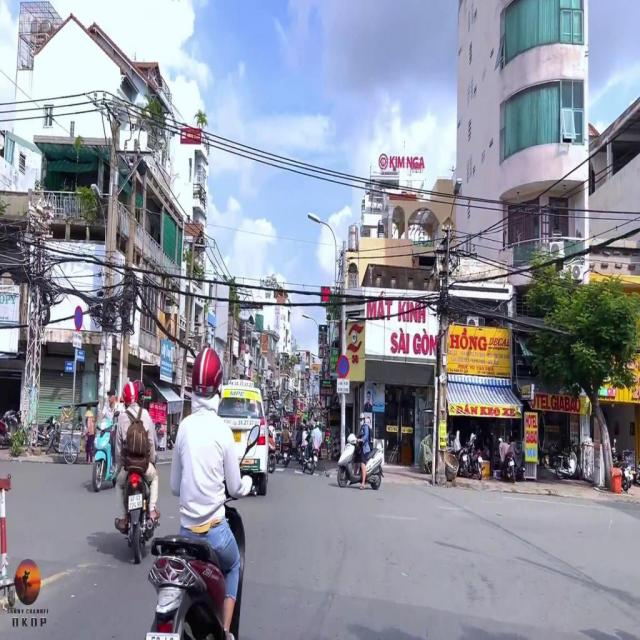cam_dung_xe_va_do_xe: (337, 356, 350, 378), (74, 306, 84, 330)
khac: (337, 379, 349, 393), (73, 332, 82, 350)
